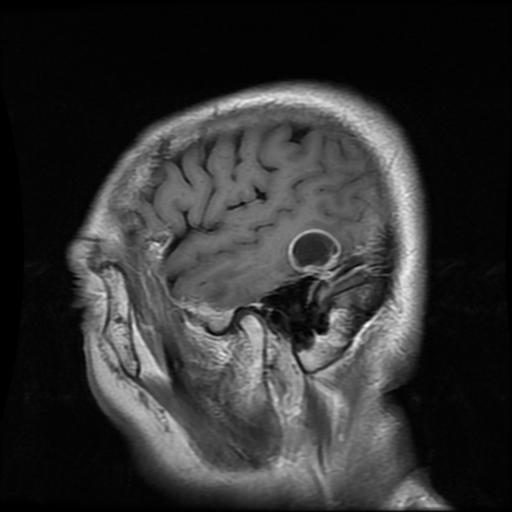Gliomia_tumour: (288, 229, 341, 272)
